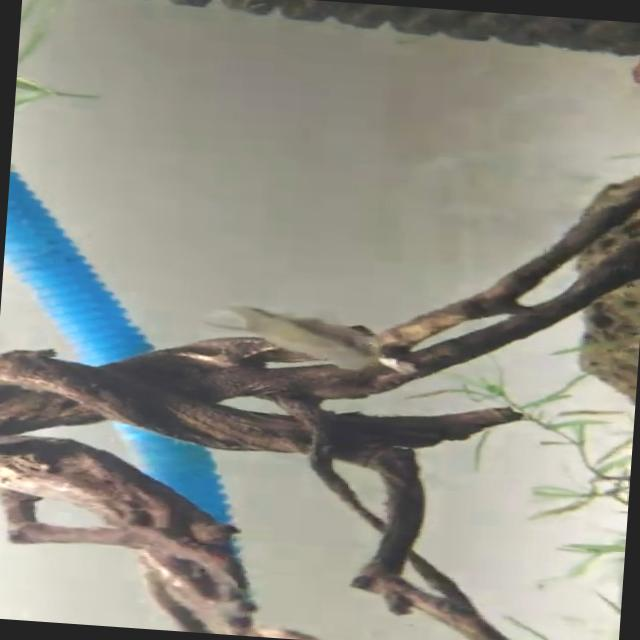Cakil Baligi: (202, 290, 398, 380)
